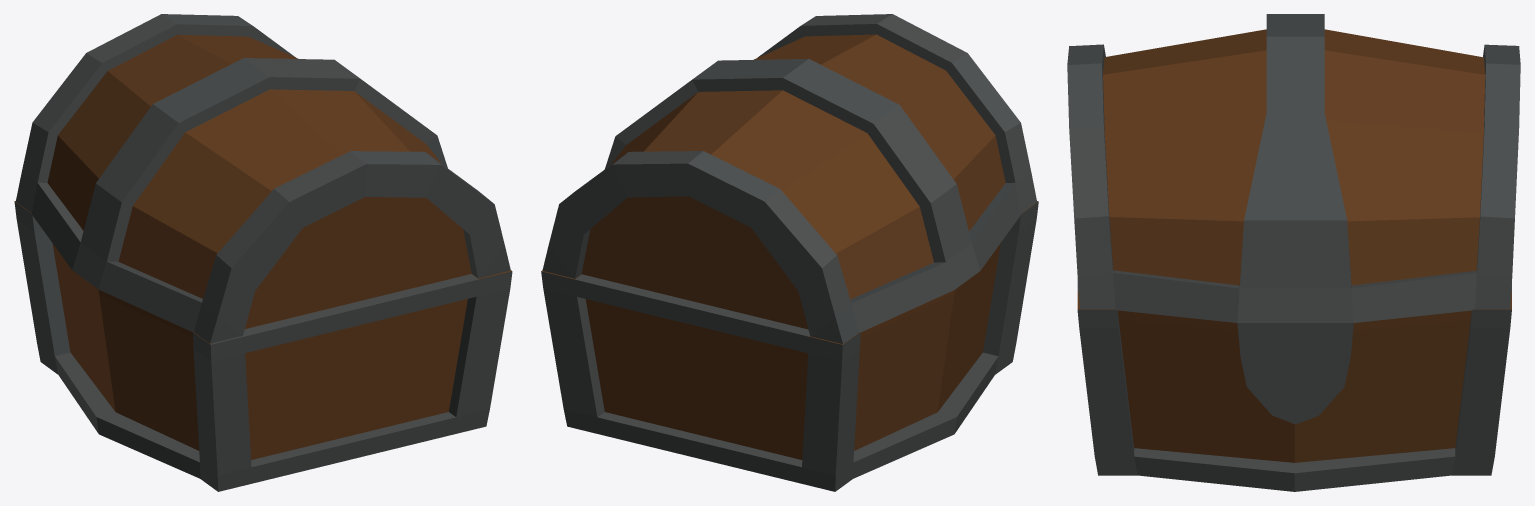
The model's file is chest_lvl1.fbx.
3 views of the same model, side by side, from view 1: azimuth 30°, elevation 25°; view 2: azimuth 150°, elevation 25°; view 3: azimuth 270°, elevation 25° (orthographic). The views are drawn at different scales.
Parts seen in each view (by area): view 1: cover_lvl1, box_lvl1; view 2: cover_lvl1, box_lvl1; view 3: cover_lvl1, box_lvl1.
Boxes of the visible parts, x1,y1,x2,y2 form: cover_lvl1: (15, 14, 510, 343); box_lvl1: (14, 201, 512, 491); cover_lvl1: (542, 14, 1036, 343); box_lvl1: (541, 201, 1038, 491); cover_lvl1: (1067, 14, 1520, 424); box_lvl1: (1077, 279, 1511, 491).
Size of the model in its own units: 1.51 by 1.34 by 1.52.
